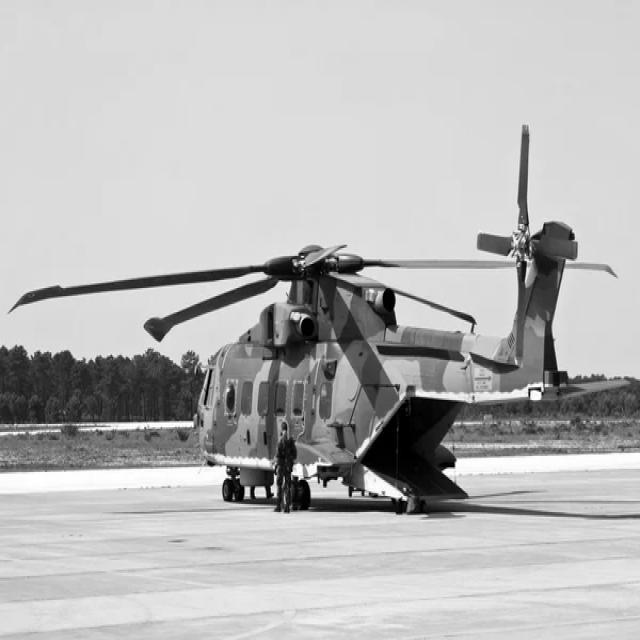Helicopter: (13, 124, 615, 510)
